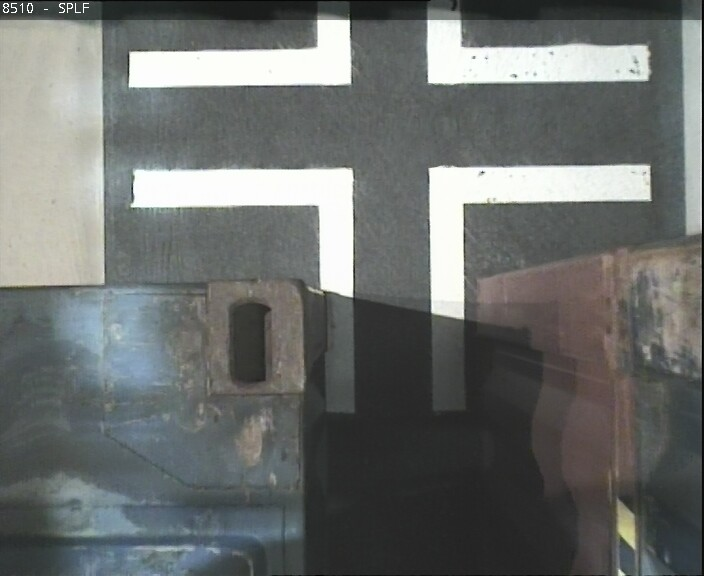groundmarker_1: (130, 167, 659, 400)
